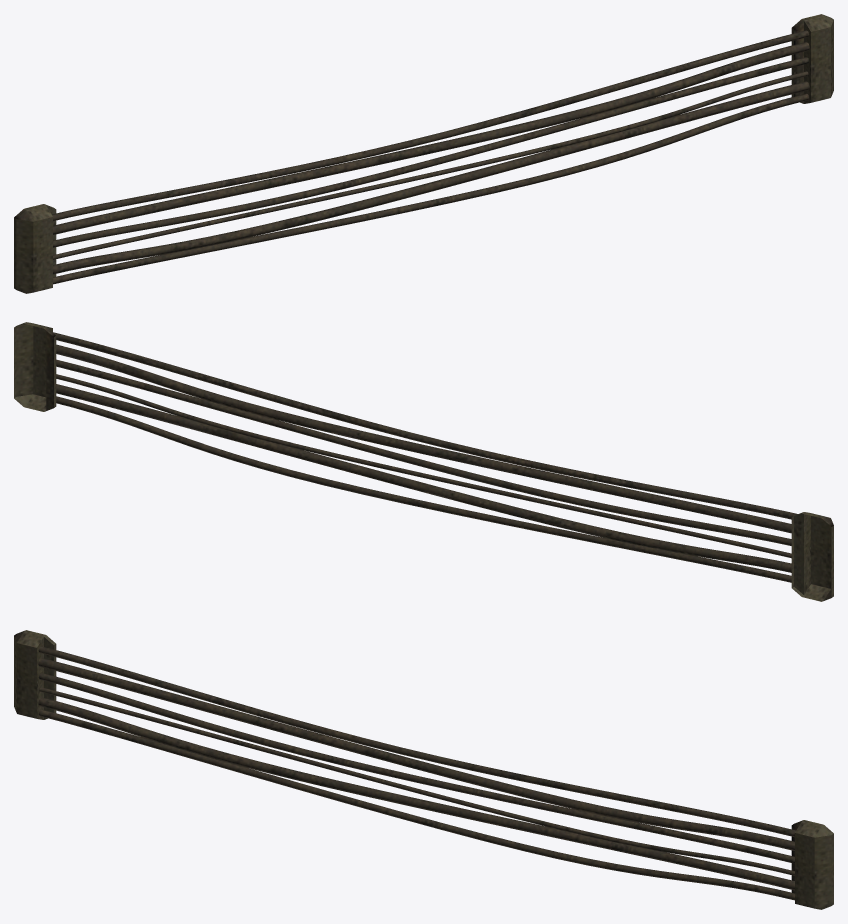
File: wires_hr_1.obj
The picture shows the model from 3 angles, top to bottom: view 1: azimuth 30°, elevation 25°; view 2: azimuth 150°, elevation 25°; view 3: azimuth 330°, elevation 25°; orthographic projection.
Parts seen in each view (by area): view 1: wires_hr_1; view 2: wires_hr_1; view 3: wires_hr_1.
Part boxes in pixels (x1,y1,x2,y2): wires_hr_1: (14,14,833,293); wires_hr_1: (14,322,833,601); wires_hr_1: (14,630,833,909).
Size of the model in its own units: 4.1 by 0.4469 by 0.08.
